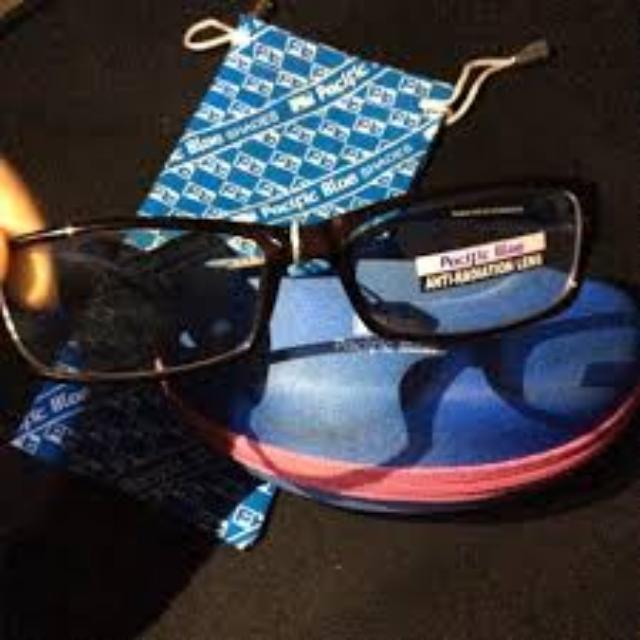mask: (4, 174, 608, 378)
